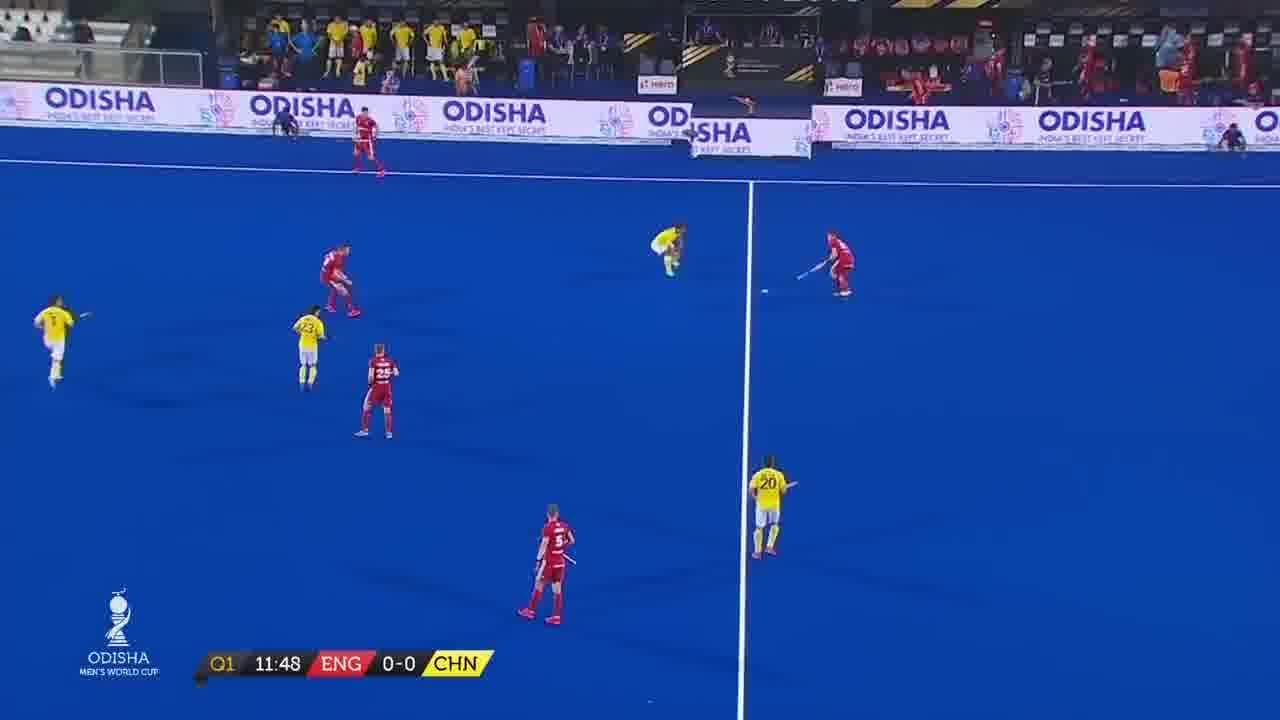ball: (757, 284, 771, 302)
